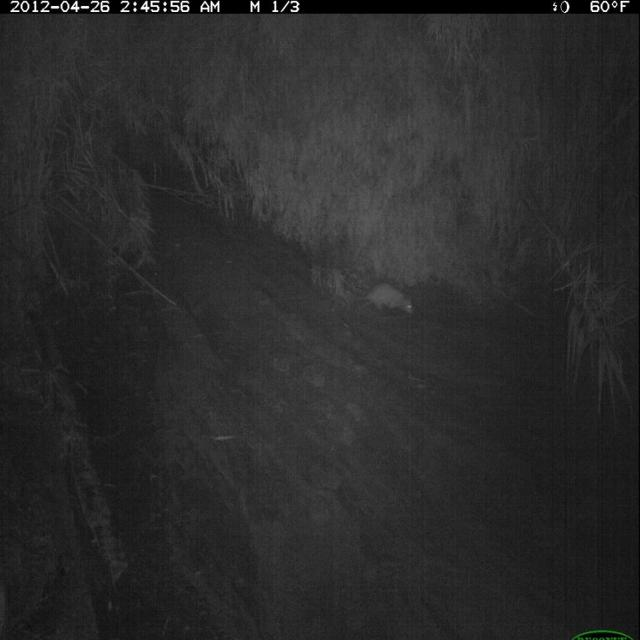opossum: (348, 279, 419, 321)
